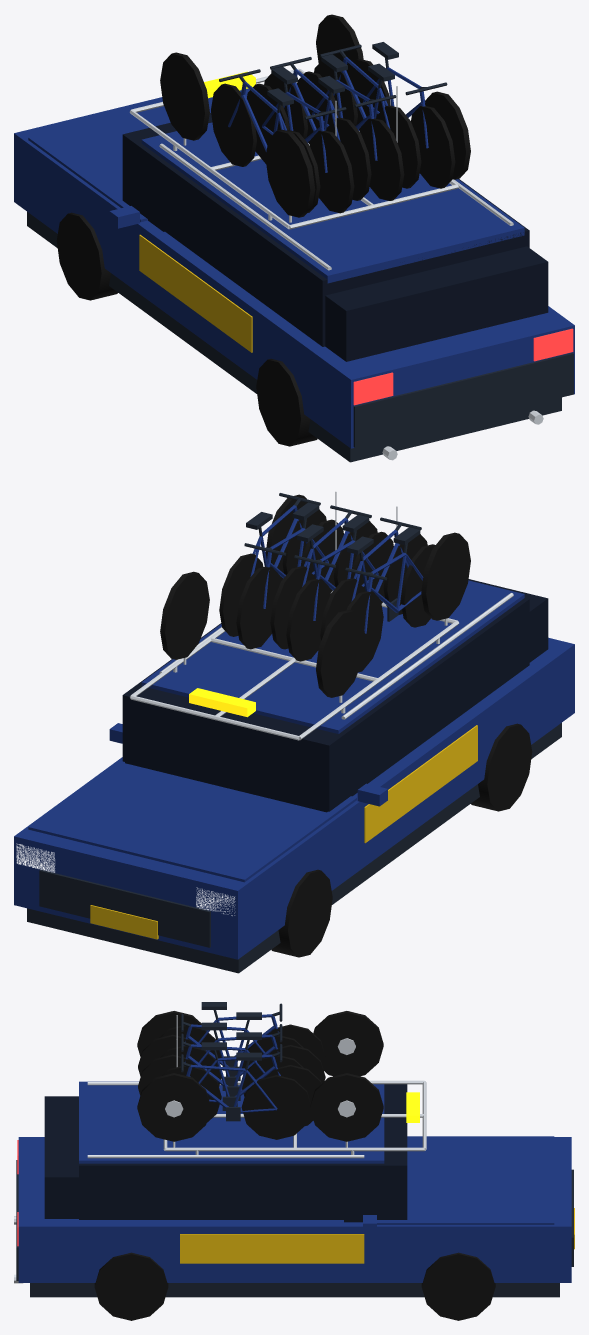
The model's file is vehicle_team_car.glb.
3 renders of one model, top to bottom at view 1: azimuth 30°, elevation 25°; view 2: azimuth 150°, elevation 25°; view 3: azimuth 270°, elevation 25°, orthographic. The views are drawn at different scales.
Visible parts, largest first — view 1: Vehicle_Team_Car; view 2: Vehicle_Team_Car; view 3: Vehicle_Team_Car.
Part boxes in pixels (x1,y1,x2,y2): Vehicle_Team_Car: (14,14,574,462); Vehicle_Team_Car: (14,491,574,973); Vehicle_Team_Car: (14,1002,574,1320).
Bounding box in the file's own units: 2.22 × 2.37 × 4.87.
